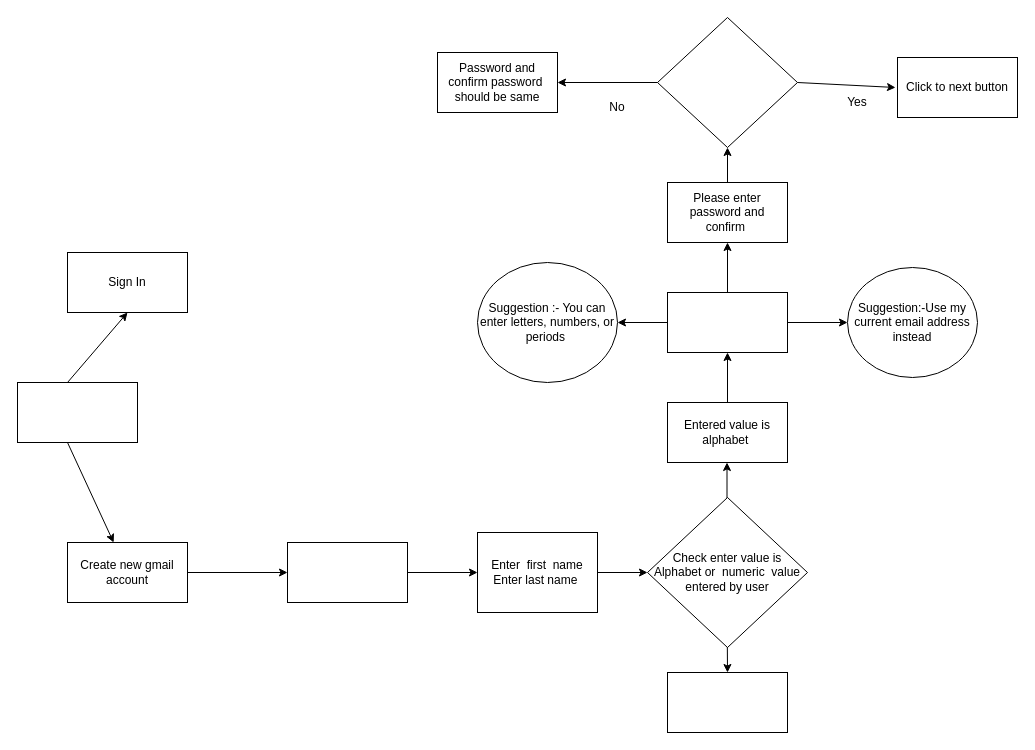
Image size: 1035x750. Some labels were removed from this diagram. Here are the shapes that lost their labels. From the top down, the centre of each, then its label:
[727,82]: Match password and confirm password
[727,322]: Enter user name or email address
[77,412]: User seach gmail.com
[347,572]: Load create gmail account page
[727,702]: Entered value is numeric "Please enter alphabet "
